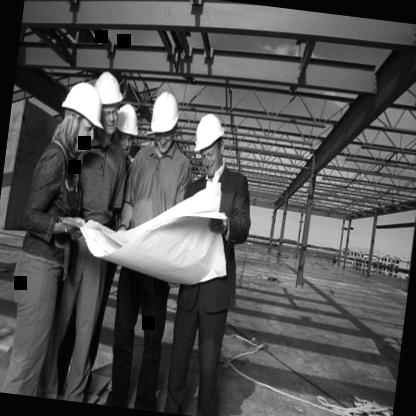helmet: (54, 79, 105, 152), (189, 109, 228, 180), (88, 67, 125, 136), (144, 89, 182, 156), (111, 101, 141, 154)
